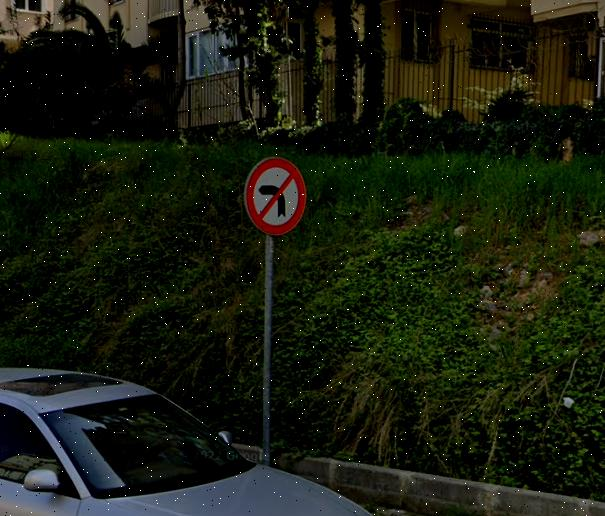leftturnsareforbidden: (245, 158, 304, 234)
